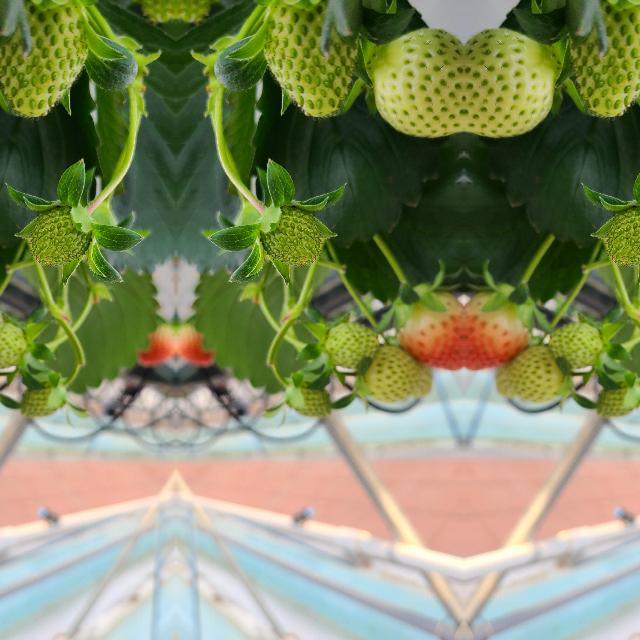Health_100: (394, 288, 462, 374), (464, 288, 532, 374)
Health_25: (261, 0, 359, 116), (0, 0, 89, 116), (373, 30, 462, 136), (463, 30, 552, 136), (567, 0, 640, 116), (358, 343, 434, 407), (492, 343, 568, 407), (258, 205, 320, 265), (30, 205, 91, 265), (322, 321, 378, 371), (548, 321, 604, 371), (606, 205, 640, 265), (0, 321, 28, 371)
